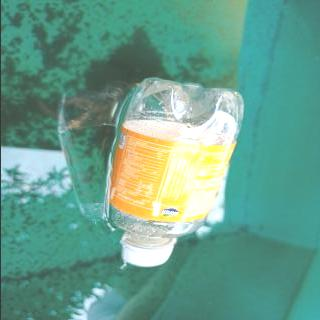bottle: (99, 76, 249, 269)
